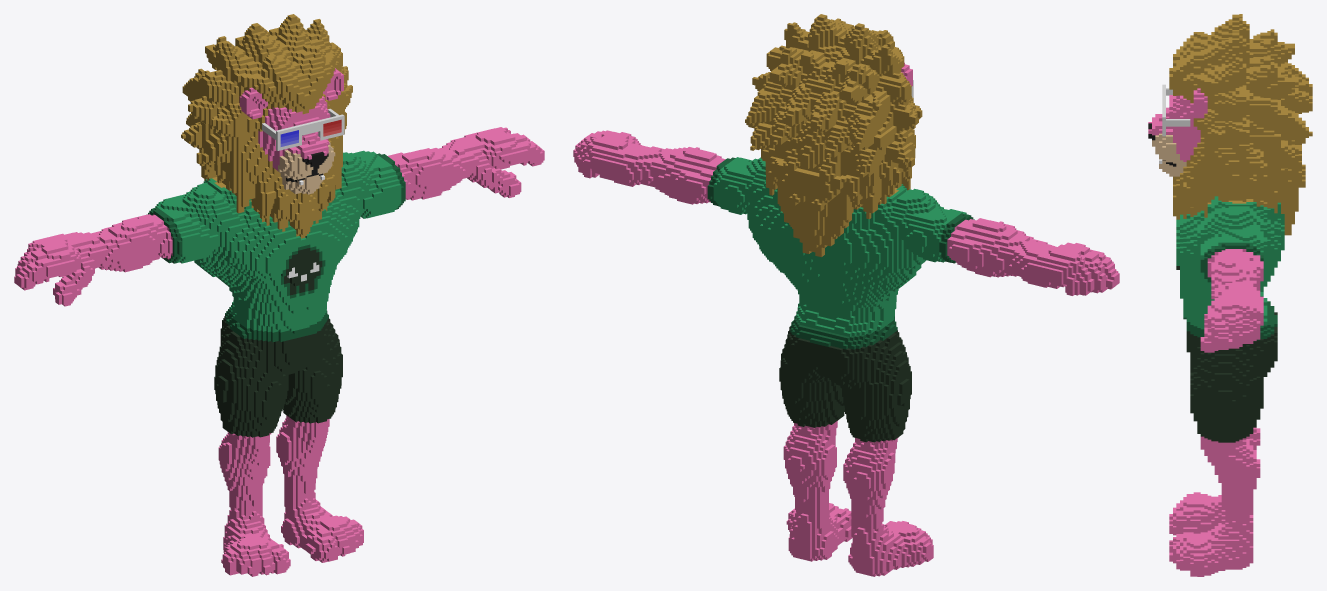
3 renders of one model, left to right at view 1: azimuth 30°, elevation 25°; view 2: azimuth 150°, elevation 25°; view 3: azimuth 270°, elevation 25°, orthographic. The views are drawn at different scales.
Parts seen in each view (by area): view 1: standard; view 2: standard; view 3: standard.
Boxes of the visible parts, bbox=[...] form: standard: bbox=[14, 14, 544, 576]; standard: bbox=[573, 14, 1119, 576]; standard: bbox=[1148, 14, 1312, 576].
Size of the model in its own units: 17.2 by 16.5 by 4.7.
Materials: 5 (5 with a texture image).
